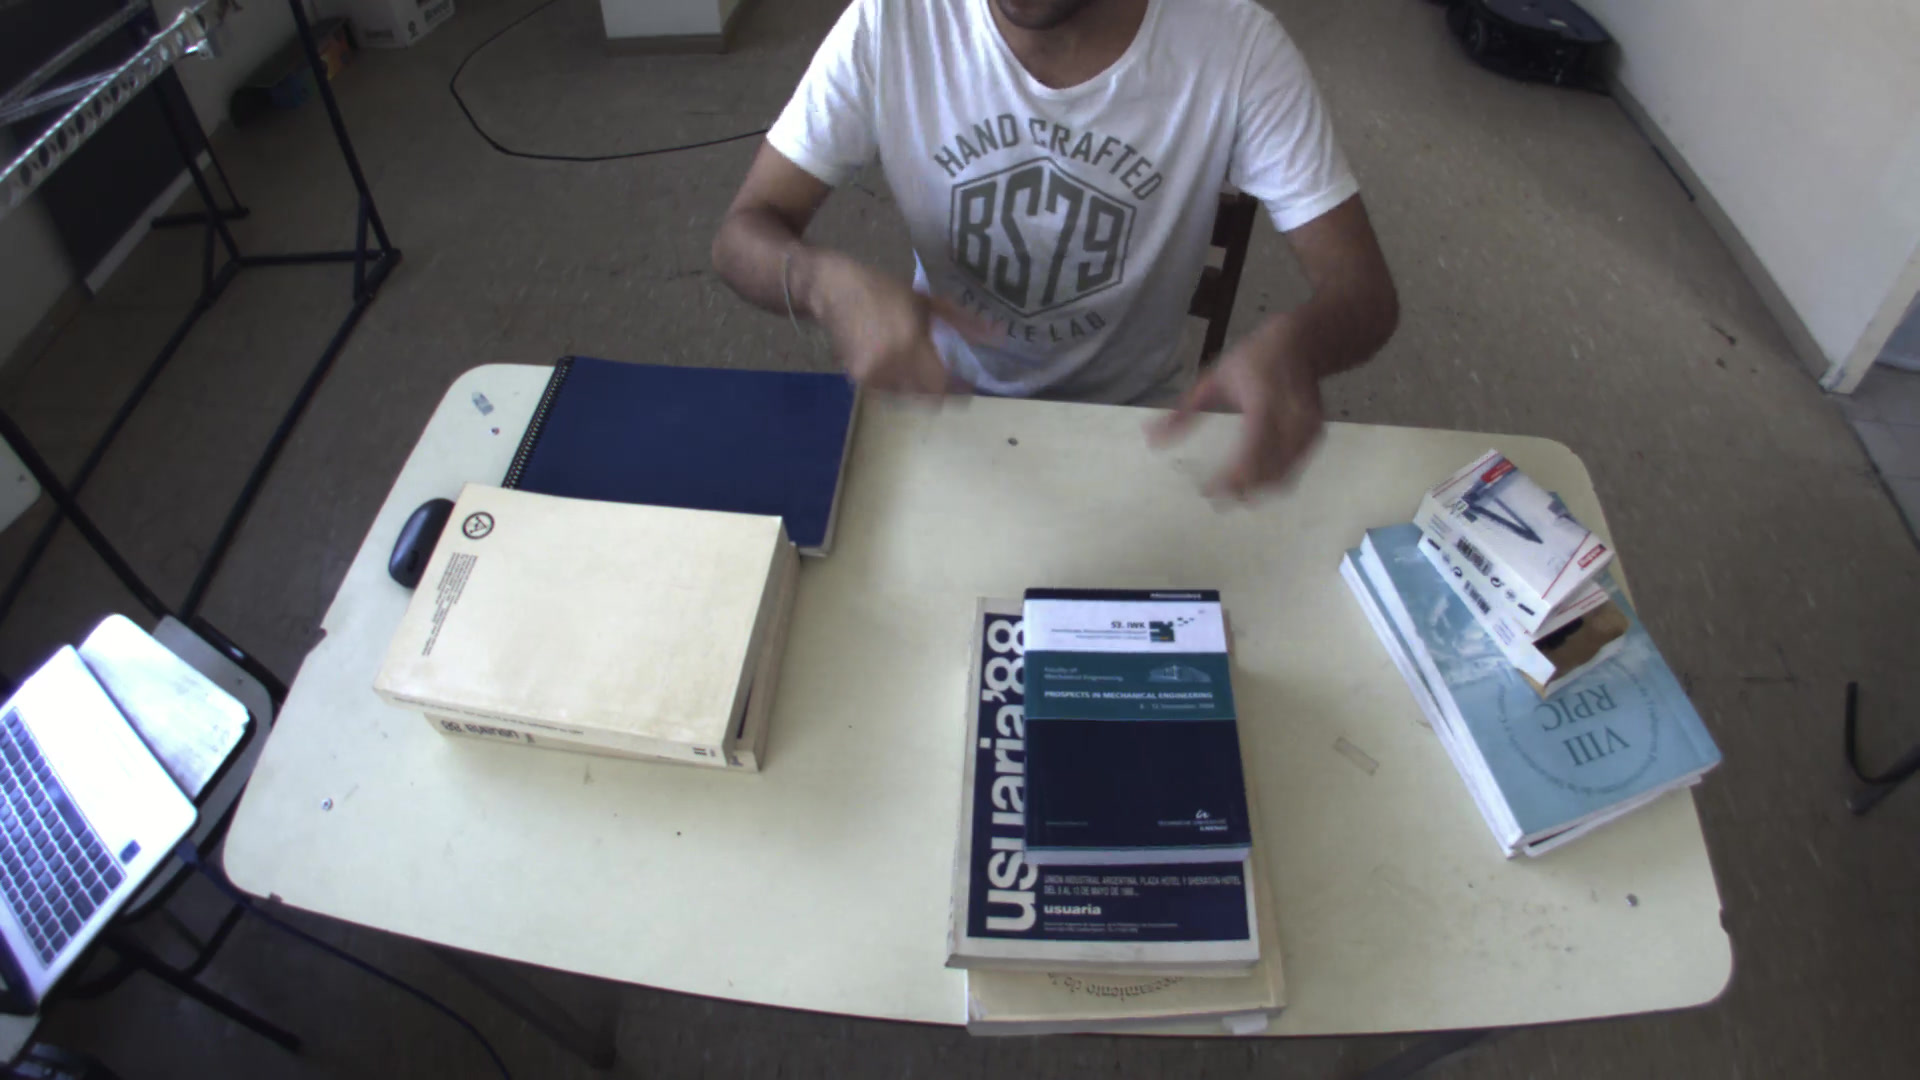hand: (1141, 320, 1341, 516), (824, 256, 1011, 426)
